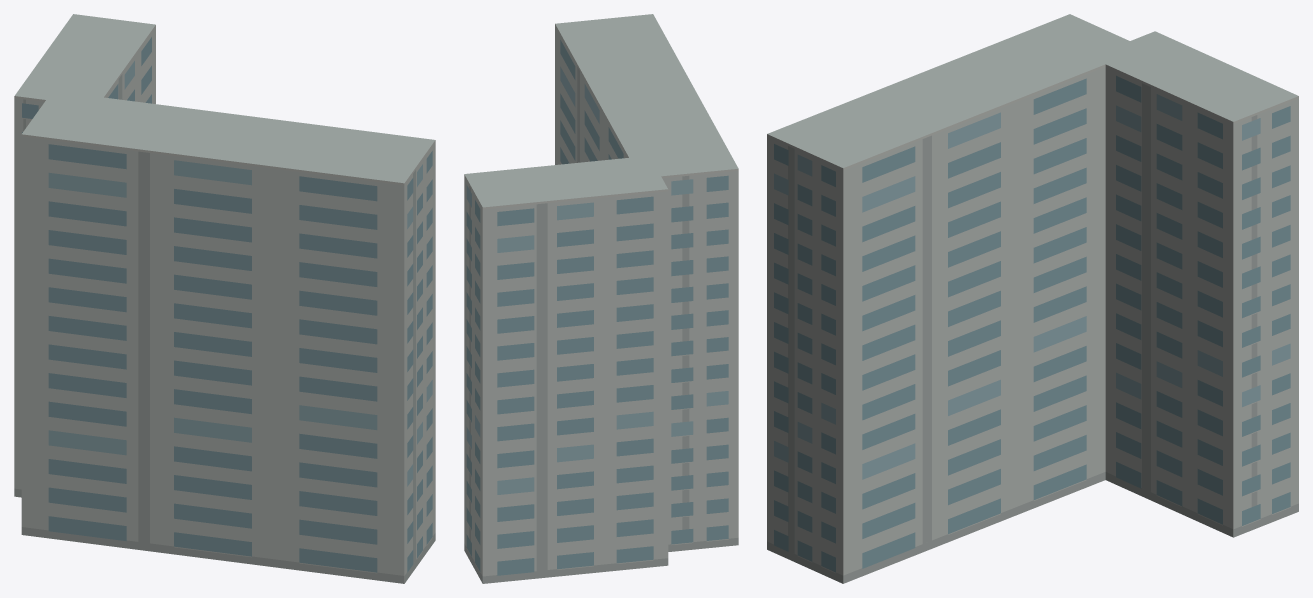
The model's file is residential-037482c7-c890-4759-adab-d8d33a9fe518.glb.
The picture shows the model from 3 angles, left to right: view 1: azimuth 30°, elevation 25°; view 2: azimuth 150°, elevation 25°; view 3: azimuth 270°, elevation 25°; orthographic projection. The views are drawn at different scales.
Parts seen in each view (by area): view 1: residential-037482c7-c890-4759-adab-d8d33a9fe518.tmp; view 2: residential-037482c7-c890-4759-adab-d8d33a9fe518.tmp; view 3: residential-037482c7-c890-4759-adab-d8d33a9fe518.tmp.
Boxes of the visible parts, x1,y1,x2,y2 form: residential-037482c7-c890-4759-adab-d8d33a9fe518.tmp: (14,14,435,583); residential-037482c7-c890-4759-adab-d8d33a9fe518.tmp: (464,14,738,583); residential-037482c7-c890-4759-adab-d8d33a9fe518.tmp: (767,14,1298,583).
Bounding box in the file's own units: 34.23 × 43 × 49.87.
